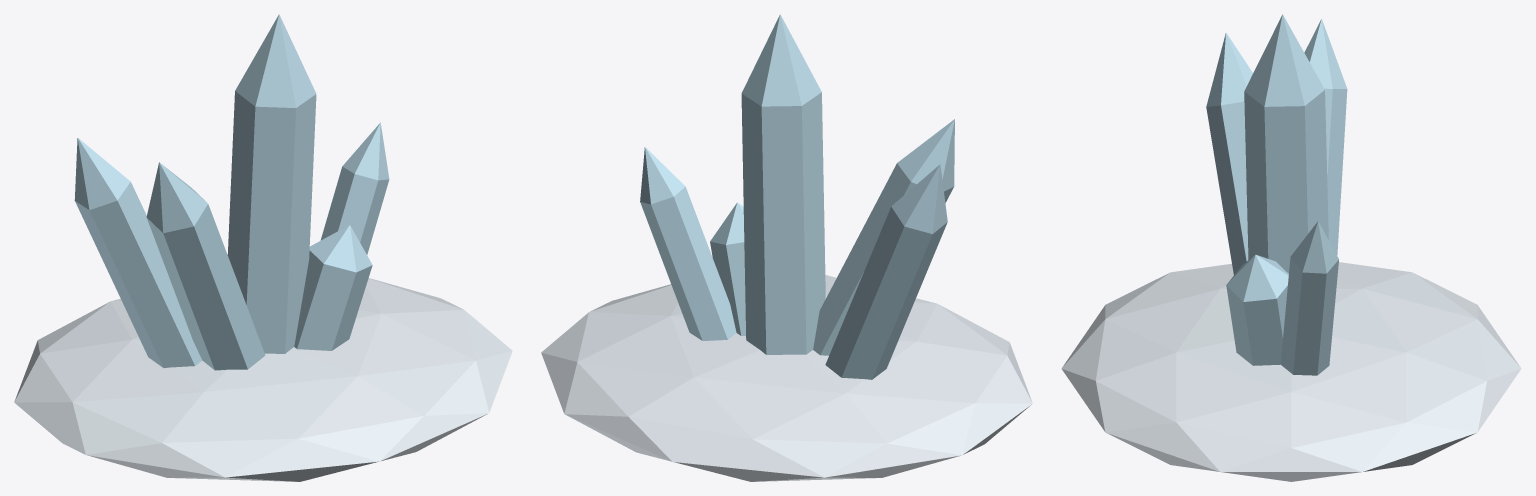
Rendered from runtime.glb.
3 views of the same model, side by side, from view 1: azimuth 30°, elevation 25°; view 2: azimuth 150°, elevation 25°; view 3: azimuth 270°, elevation 25° (orthographic).
Parts seen in each view (by area): view 1: frozen_crystal_snow_noshadow_nocol, frozen_crystal_ice_nocol; view 2: frozen_crystal_snow_noshadow_nocol, frozen_crystal_ice_nocol; view 3: frozen_crystal_snow_noshadow_nocol, frozen_crystal_ice_nocol.
Boxes of the visible parts, x1,y1,x2,y2 form: frozen_crystal_snow_noshadow_nocol: (14, 278, 512, 481); frozen_crystal_ice_nocol: (74, 14, 389, 370); frozen_crystal_snow_noshadow_nocol: (541, 275, 1032, 481); frozen_crystal_ice_nocol: (640, 14, 954, 379); frozen_crystal_snow_noshadow_nocol: (1061, 262, 1521, 481); frozen_crystal_ice_nocol: (1206, 14, 1347, 375).
Size of the model in its own units: 3.57 by 3.22 by 3.36.
